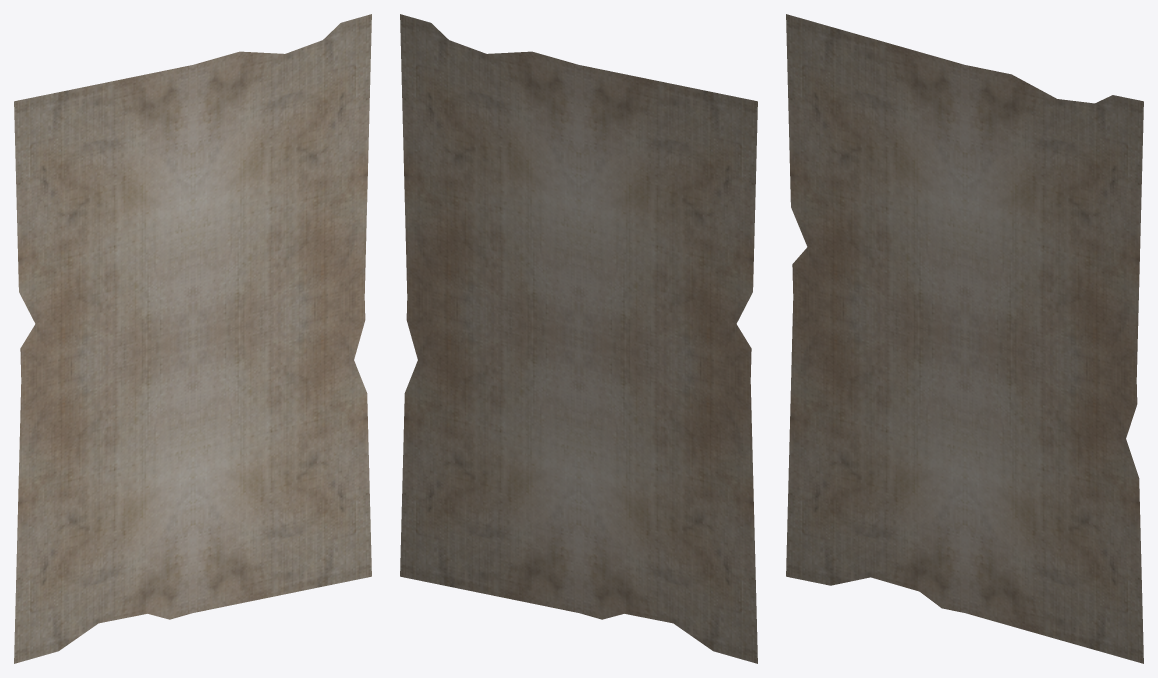
File: Carpet_A.fbx
3 renders of one model, left to right at view 1: azimuth 30°, elevation 25°; view 2: azimuth 150°, elevation 25°; view 3: azimuth 330°, elevation 25°, orthographic.
Parts seen in each view (by area): view 1: Carpet_A; view 2: Carpet_A; view 3: Carpet_A.
Part boxes in pixels (x1,y1,x2,y2): Carpet_A: (14, 14, 371, 663); Carpet_A: (400, 14, 757, 663); Carpet_A: (786, 14, 1143, 663).
Size of the model in its own units: 2.42 by 3.63 by 4.77e-07.
